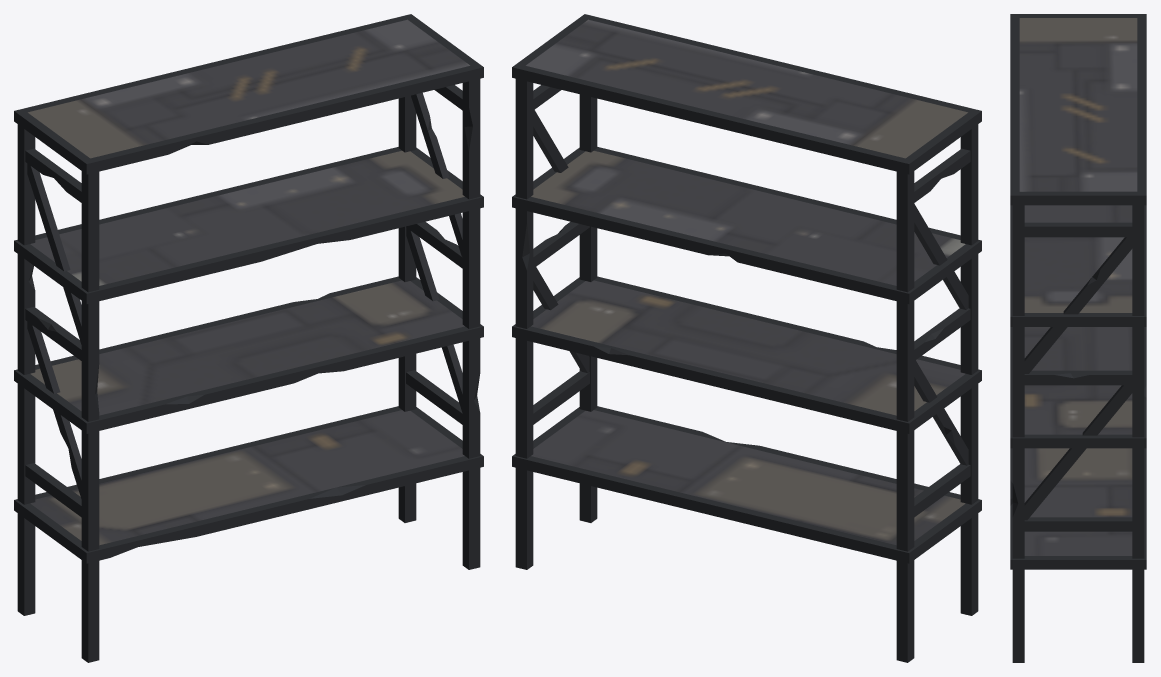
File: SM_Prop_Shelf_01.fbx
The picture shows the model from 3 angles, left to right: view 1: azimuth 30°, elevation 25°; view 2: azimuth 150°, elevation 25°; view 3: azimuth 270°, elevation 25°; orthographic projection. The views are drawn at different scales.
Parts seen in each view (by area): view 1: SM_Prop_Shelf_01; view 2: SM_Prop_Shelf_01; view 3: SM_Prop_Shelf_01.
Boxes of the visible parts, left/top/right/bottom form: SM_Prop_Shelf_01: left=14, top=14, right=483, bottom=662; SM_Prop_Shelf_01: left=512, top=14, right=981, bottom=662; SM_Prop_Shelf_01: left=1010, top=14, right=1146, bottom=662.
Size of the model in its own units: 179 by 215 by 56.74.
